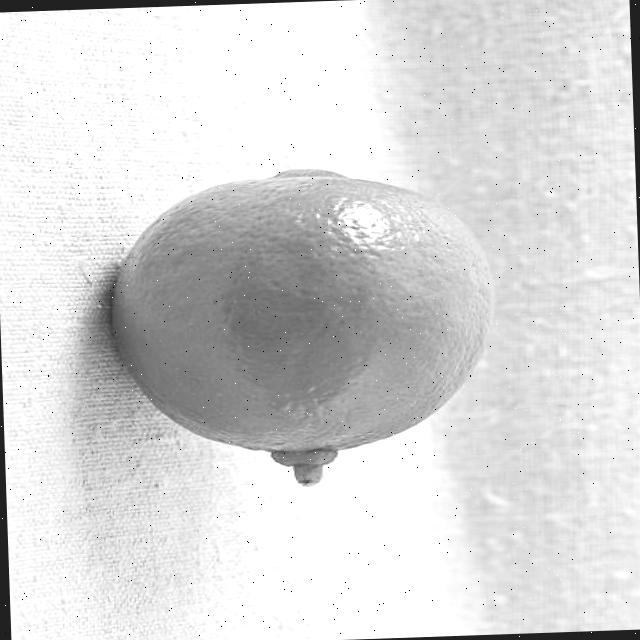Unripe: (100, 157, 502, 459)
